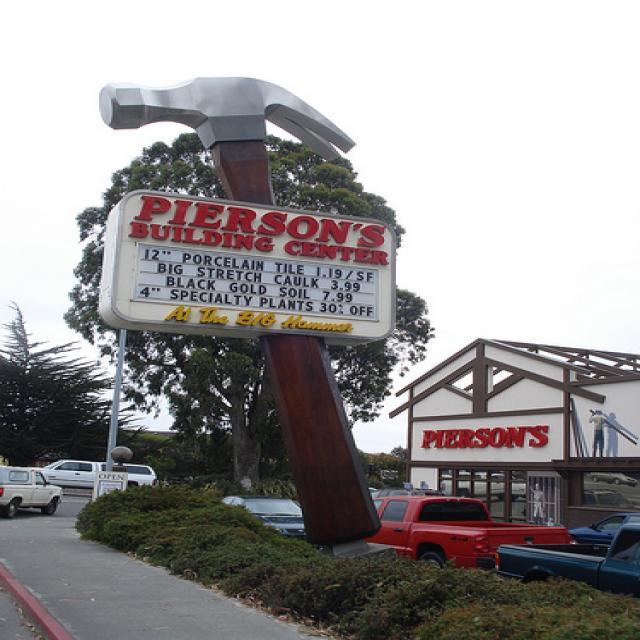hammer: (88, 71, 388, 543)
